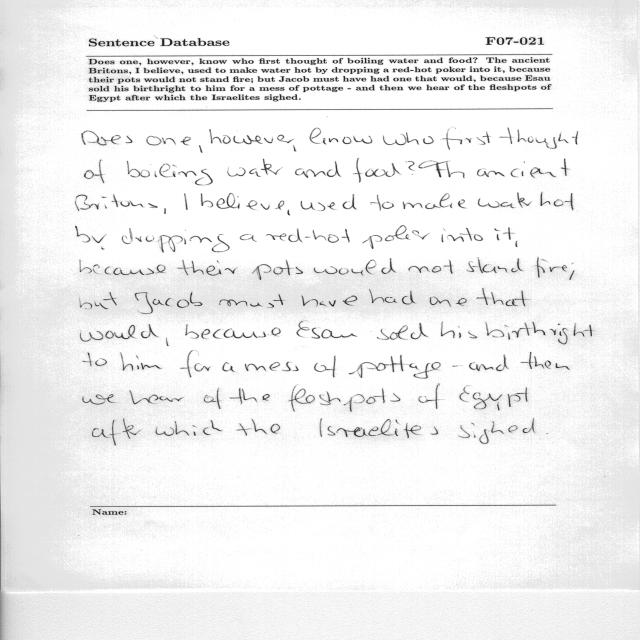word: (288, 386, 400, 412), (122, 228, 229, 252), (486, 322, 593, 345), (320, 419, 438, 438), (349, 355, 441, 379), (127, 161, 213, 185), (477, 159, 568, 178), (500, 128, 578, 149), (362, 225, 429, 249), (460, 388, 528, 411), (314, 258, 396, 276), (135, 292, 202, 314), (75, 194, 158, 211), (201, 193, 284, 210), (80, 324, 158, 342), (185, 325, 281, 339), (459, 422, 518, 444), (80, 260, 165, 275), (266, 228, 350, 243), (92, 420, 140, 446), (355, 159, 400, 183), (297, 321, 357, 339), (155, 420, 222, 436), (443, 128, 490, 150), (252, 260, 303, 280), (310, 128, 372, 144), (209, 129, 273, 144), (227, 159, 280, 177), (301, 194, 357, 211), (403, 194, 466, 209), (177, 260, 236, 276), (477, 288, 528, 306), (520, 352, 570, 370), (219, 294, 283, 308), (377, 323, 428, 340), (467, 258, 523, 273), (180, 351, 210, 378), (478, 193, 531, 208), (295, 161, 341, 178), (419, 161, 465, 178), (130, 390, 184, 404), (121, 353, 162, 371), (237, 419, 280, 436), (369, 289, 416, 304), (82, 131, 132, 145), (76, 226, 105, 249), (383, 133, 434, 146), (229, 389, 270, 405), (469, 355, 509, 371), (80, 292, 117, 309), (536, 258, 567, 278), (409, 260, 453, 274), (302, 296, 358, 307), (541, 193, 574, 211), (441, 228, 483, 242), (441, 322, 477, 338), (419, 384, 440, 409), (245, 362, 299, 371), (314, 356, 336, 377), (85, 160, 105, 183), (146, 136, 191, 145), (204, 387, 221, 409), (430, 297, 467, 307), (371, 195, 394, 211), (83, 394, 115, 405), (83, 353, 107, 366), (278, 135, 297, 151), (494, 228, 513, 241), (522, 418, 535, 433), (240, 234, 257, 242), (222, 362, 235, 372), (405, 161, 415, 171), (570, 263, 575, 280), (184, 193, 188, 210), (199, 145, 202, 153), (166, 338, 169, 346), (288, 210, 291, 215), (164, 208, 166, 214), (516, 241, 518, 247), (453, 366, 457, 367)
